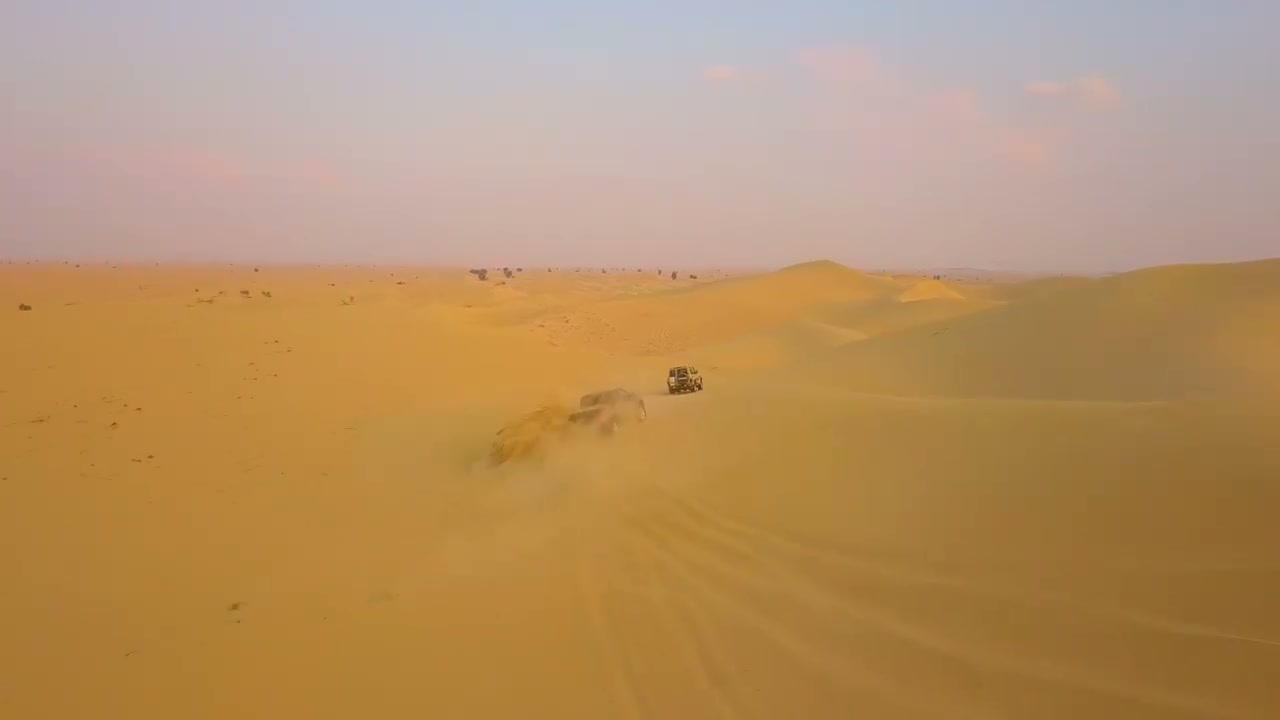vehicle_track: (635, 492, 1260, 719)
